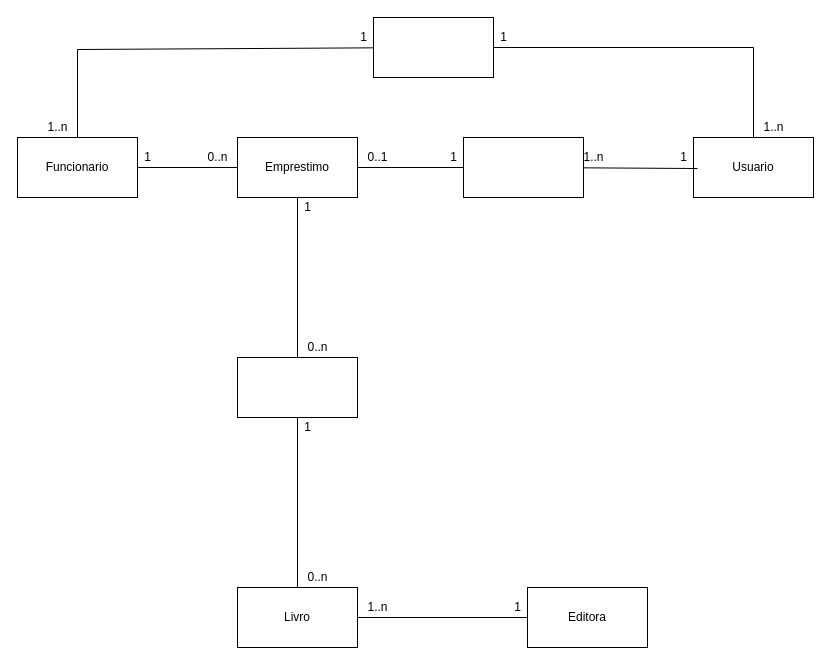
The diagram is 831 pixels wide and 665 high, and some of its shapes have lost their labels. Each missing label, with the centre of its shape:
"EmprestimoLivro" belongs at [297,387].
"Endereco" belongs at [433,47].
"UsuarioEmprestimo" belongs at [523,167].
